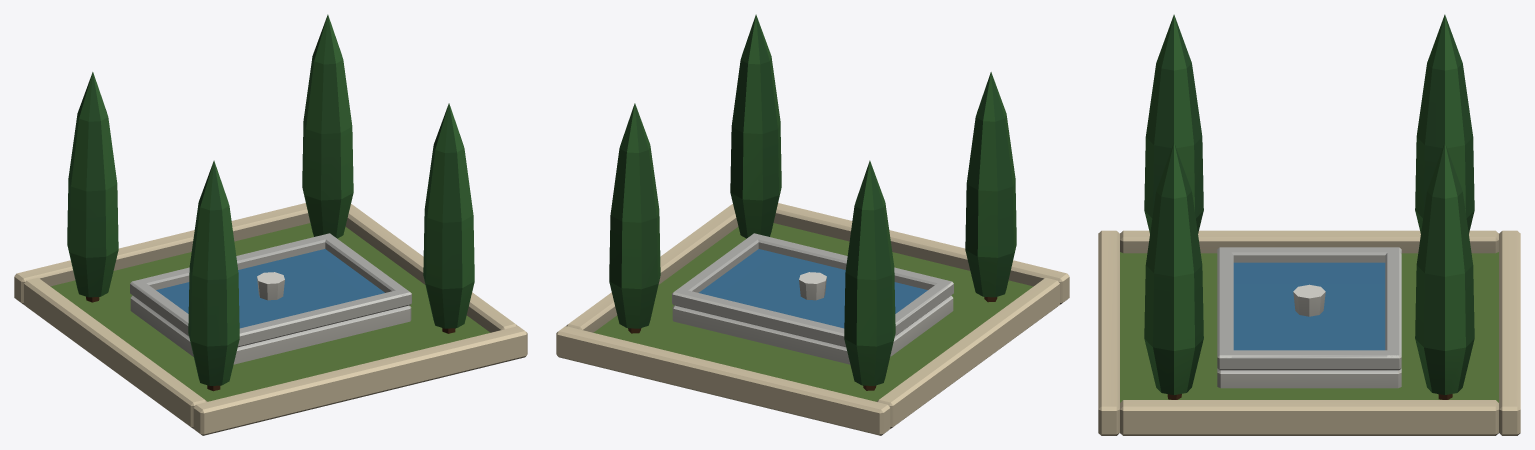
File: city_pool.glb
The picture shows the model from 3 angles, left to right: view 1: azimuth 30°, elevation 25°; view 2: azimuth 150°, elevation 25°; view 3: azimuth 270°, elevation 25°; orthographic projection. The views are drawn at different scales.
Parts seen in each view (by area): view 1: city_pool, Water; view 2: city_pool, Water; view 3: city_pool, Water.
Boxes of the visible parts, x1,y1,x2,y2 form: city_pool: (14, 14, 527, 435); Water: (156, 249, 384, 328); city_pool: (556, 14, 1069, 435); Water: (699, 249, 927, 328); city_pool: (1098, 14, 1520, 435); Water: (1233, 262, 1385, 350).
Bounding box in the file's own units: 0.78 × 0.55 × 0.78.
